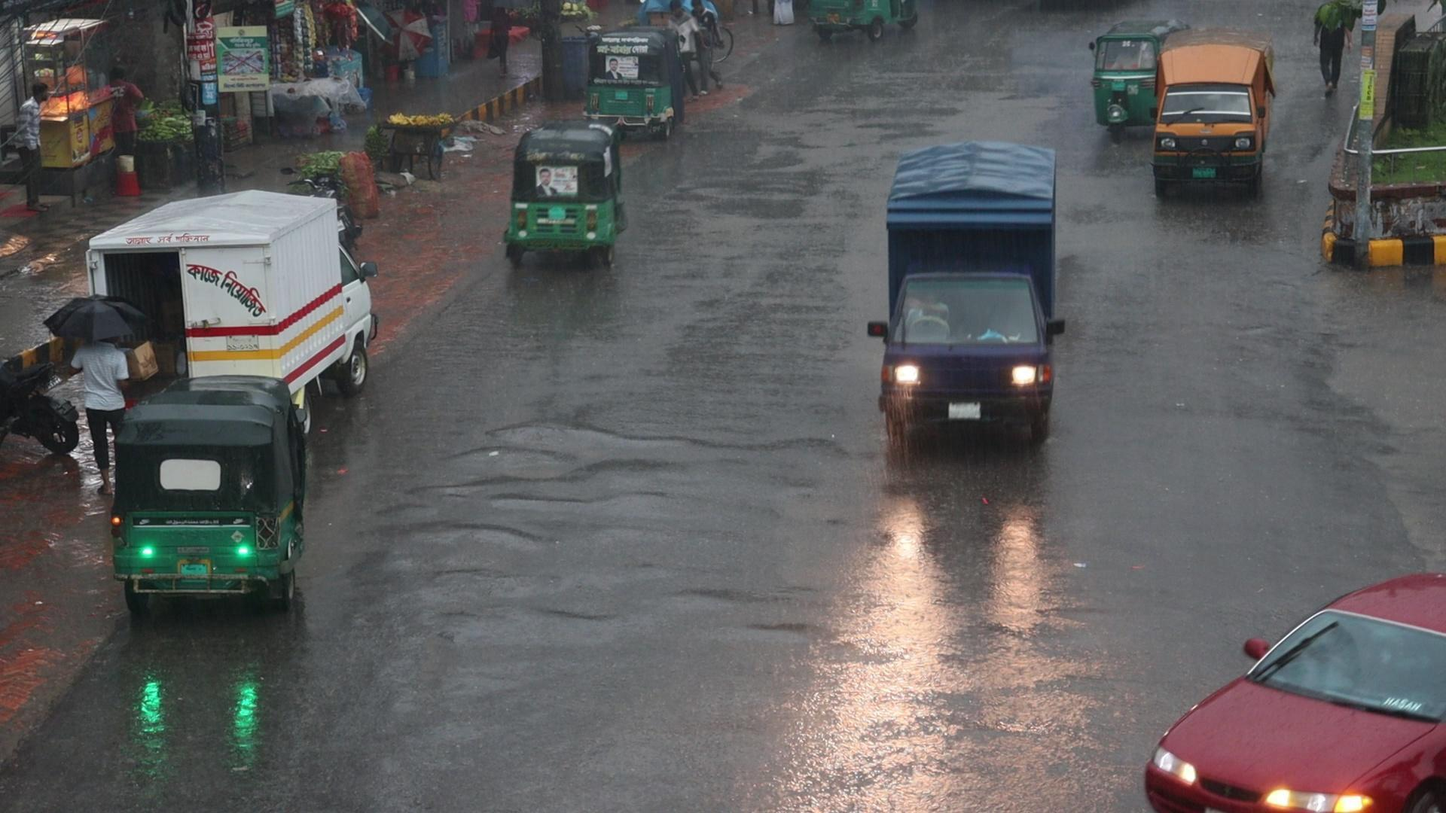Car: (1127, 563, 1446, 813)
Truck: (870, 140, 1071, 473), (1152, 37, 1274, 204)
